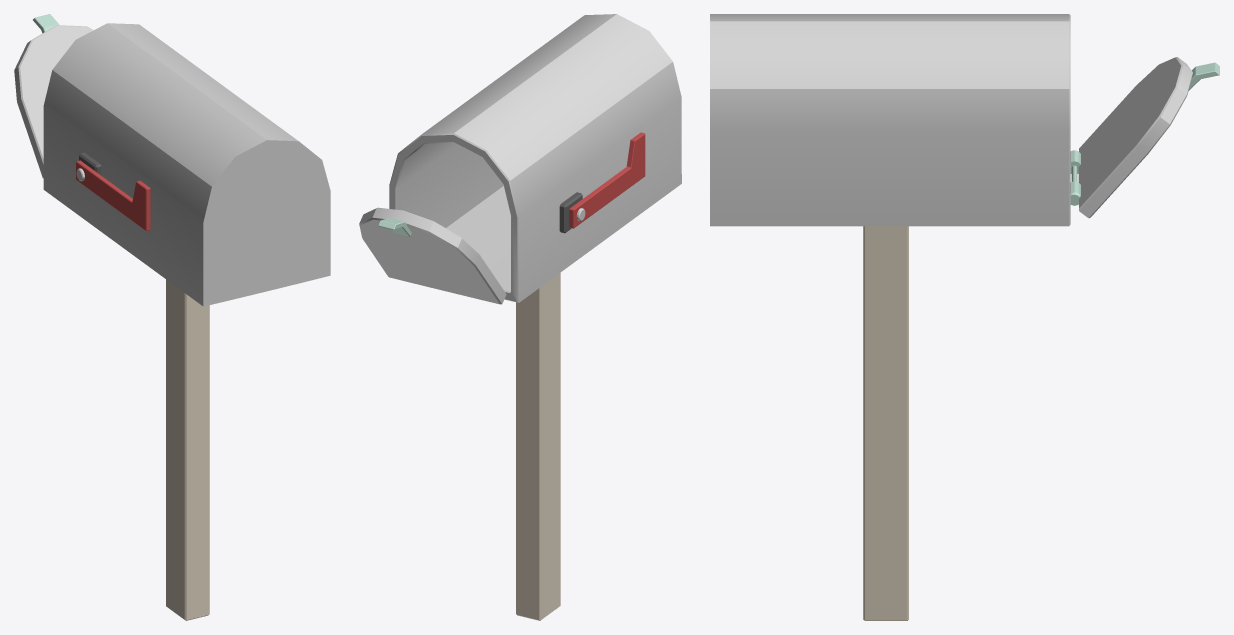
The model's file is Mailbox.fbx.
3 renders of one model, left to right at view 1: azimuth 30°, elevation 25°; view 2: azimuth 150°, elevation 25°; view 3: azimuth 270°, elevation 25°, orthographic. The views are drawn at different scales.
Visible parts, largest first — view 1: pCylinder7; view 2: pCylinder7; view 3: pCylinder7.
Boxes of the visible parts, x1=… form: pCylinder7: x1=14, y1=14, x2=330, y2=620; pCylinder7: x1=359, y1=14, x2=681, y2=620; pCylinder7: x1=710, y1=14, x2=1219, y2=620.
Bounding box in the file's own units: 0.5829 × 2.09 × 1.63.
